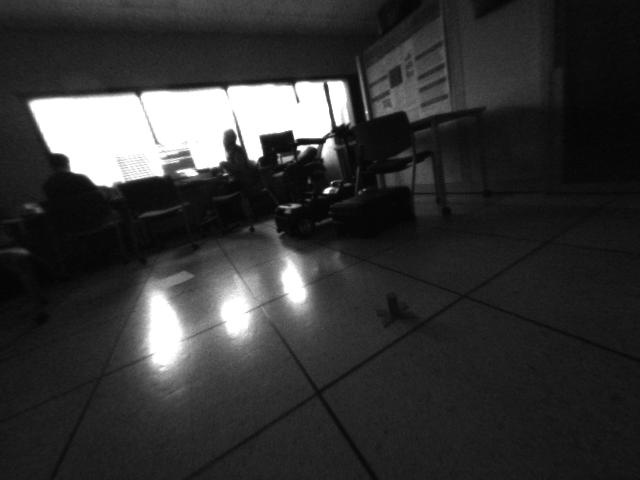x: (375, 291, 415, 329)
